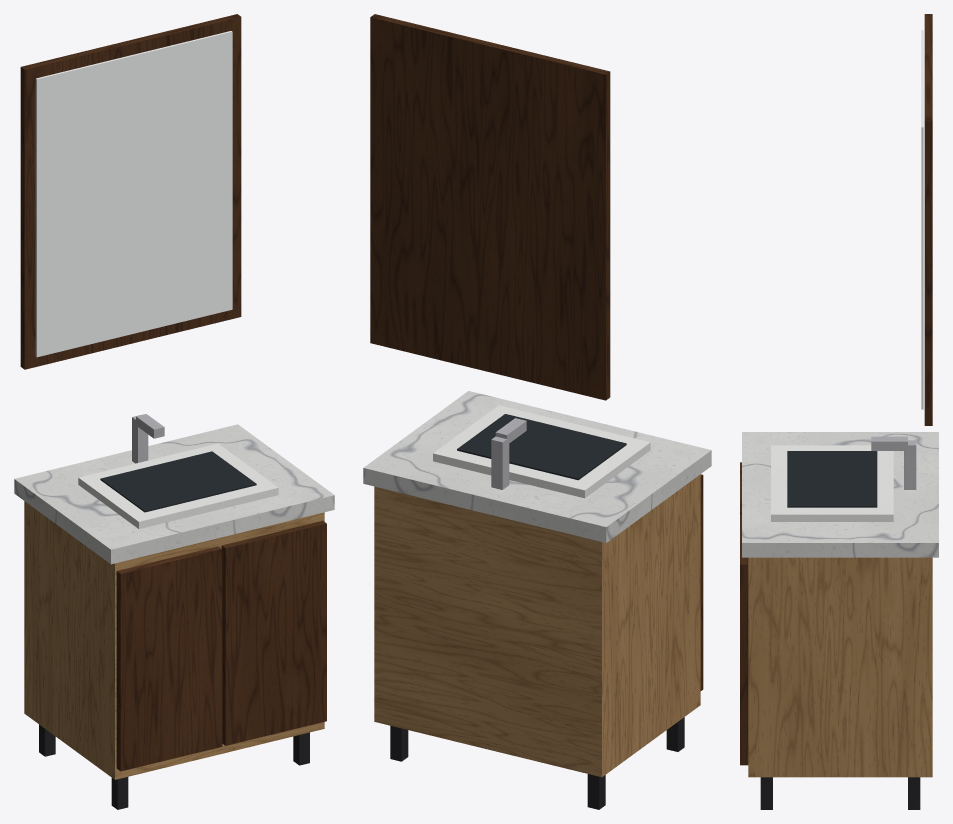
3 renders of one model, left to right at view 1: azimuth 30°, elevation 25°; view 2: azimuth 150°, elevation 25°; view 3: azimuth 270°, elevation 25°, orthographic. The views are drawn at different scales.
Parts seen in each view (by area): view 1: BathroomVanity_Game; view 2: BathroomVanity_Game; view 3: BathroomVanity_Game.
Part boxes in pixels (x1=…): BathroomVanity_Game: x1=14, y1=14, x2=334, y2=809; BathroomVanity_Game: x1=363, y1=14, x2=711, y2=809; BathroomVanity_Game: x1=740, y1=14, x2=938, y2=809.
Bounding box in the file's own units: 0.64 × 1.87 × 0.485.
Materials: 8 (6 with a texture image).
